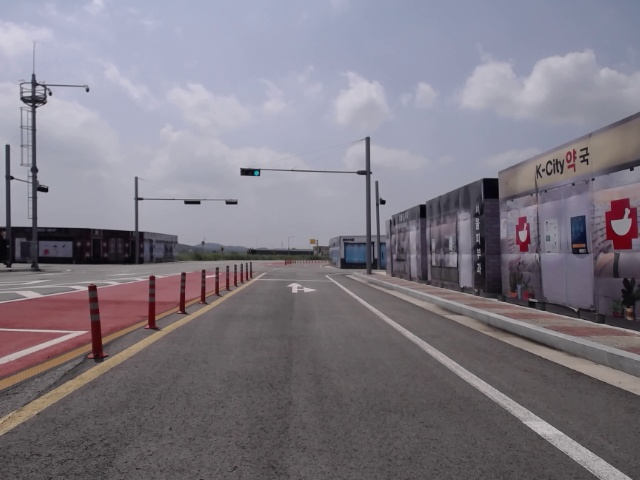green_3: (240, 168, 261, 177)
